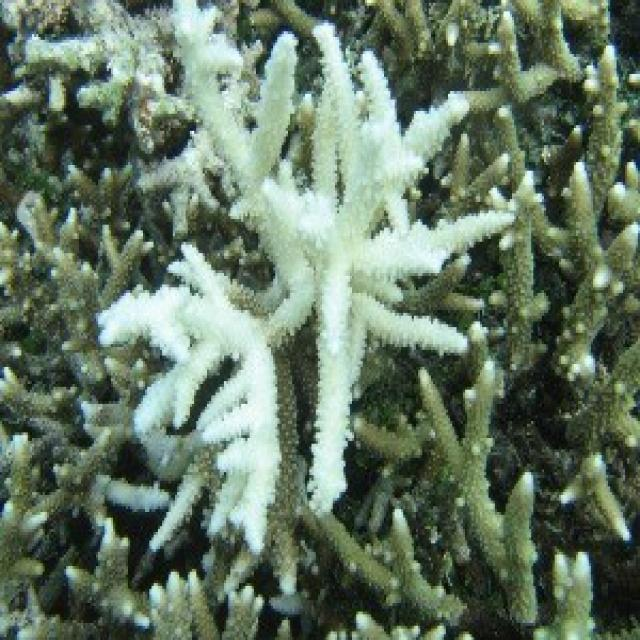Bleached: (172, 4, 504, 485), (101, 246, 280, 553)
Healthy: (306, 1, 639, 638), (1, 1, 259, 638)
